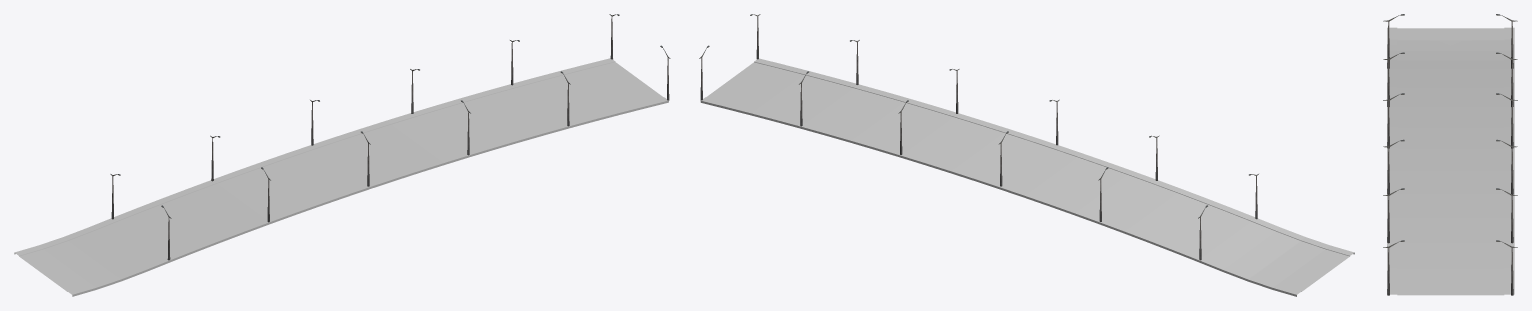
Rendered from Big_Road_down_10.FBX.
3 views of the same model, side by side, from view 1: azimuth 30°, elevation 25°; view 2: azimuth 150°, elevation 25°; view 3: azimuth 270°, elevation 25° (orthographic). The views are drawn at different scales.
Visible parts, largest first — view 1: Big_Road_down_10, City087; view 2: Big_Road_down_10, City087; view 3: Big_Road_down_10, City087.
Boxes of the visible parts, x1=… form: Big_Road_down_10: x1=14, y1=58, x2=668, y2=296; City087: x1=110, y1=14, x2=670, y2=260; Big_Road_down_10: x1=700, y1=58, x2=1354, y2=296; City087: x1=699, y1=14, x2=1258, y2=260; Big_Road_down_10: x1=1387, y1=27, x2=1514, y2=295; City087: x1=1383, y1=14, x2=1517, y2=295.
Bounding box in the file's own units: 135 × 23.94 × 21.58.
